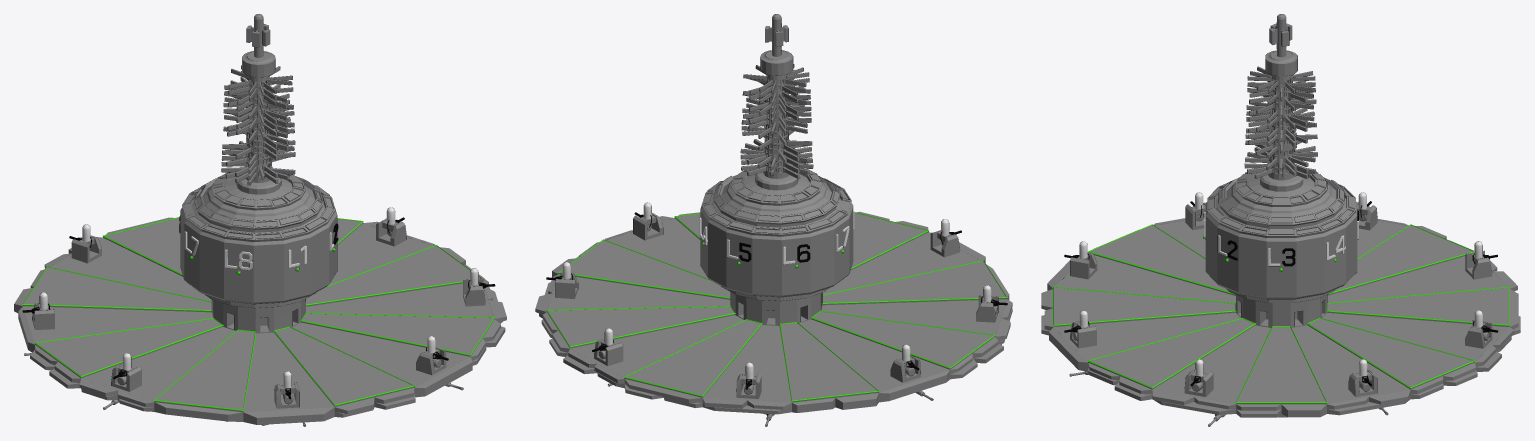
File: Cannoned Outpost.fbx
The picture shows the model from 3 angles, left to right: view 1: azimuth 30°, elevation 25°; view 2: azimuth 150°, elevation 25°; view 3: azimuth 270°, elevation 25°; orthographic projection. The views are drawn at different scales.
Visible parts, largest first — view 1: Base Main, Side Disco, Floor Lights, CIWS.002, CIWS.004, CIWS.006, CIWS.007, CIWS.008, CIWS.001, CIWS.005; view 2: Base Main, Side Disco, Floor Lights, CIWS.001, CIWS.008, CIWS.003, CIWS.005, CIWS.004, CIWS.006, CIWS.002; view 3: Base Main, Side Disco, Floor Lights, CIWS.001, CIWS.004, CIWS.002, CIWS.008, CIWS.003, CIWS.007, CIWS.006, CIWS.005.
Boxes of the visible parts, x1,y1,x2,y2 form: Base Main: (23, 14, 494, 425); Side Disco: (14, 217, 506, 424); Floor Lights: (22, 217, 494, 411); CIWS.002: (376, 207, 406, 246); CIWS.004: (69, 224, 101, 263); CIWS.006: (111, 353, 141, 391); CIWS.007: (416, 336, 448, 375); CIWS.008: (274, 371, 299, 408); CIWS.001: (463, 268, 495, 306); CIWS.005: (22, 292, 54, 329); Base Main: (546, 14, 1006, 414); Side Disco: (535, 211, 1012, 414); Floor Lights: (546, 212, 1007, 401); CIWS.001: (633, 202, 663, 240); CIWS.008: (930, 219, 961, 257); CIWS.003: (592, 328, 623, 366); CIWS.005: (890, 344, 920, 382); CIWS.004: (736, 362, 761, 398); CIWS.006: (976, 285, 1007, 322); CIWS.002: (546, 262, 578, 298); Base Main: (1053, 14, 1509, 417); Side Disco: (1041, 218, 1520, 417); Floor Lights: (1053, 224, 1509, 403); CIWS.001: (1184, 359, 1213, 396); CIWS.004: (1465, 241, 1497, 279); CIWS.002: (1348, 359, 1377, 396); CIWS.008: (1064, 241, 1097, 279); CIWS.003: (1465, 310, 1498, 348); CIWS.007: (1064, 310, 1096, 348); CIWS.006: (1185, 192, 1205, 230); CIWS.005: (1357, 192, 1377, 230).
Bounding box in the file's own units: 87.08 × 86.92 × 76.74.
